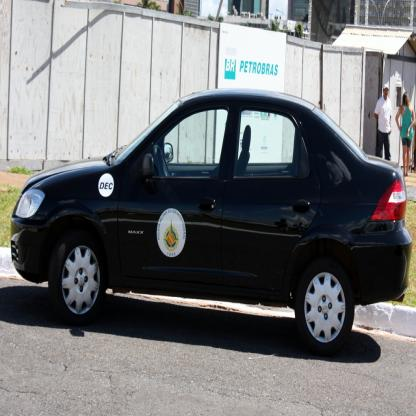Car: (11, 90, 416, 356)
